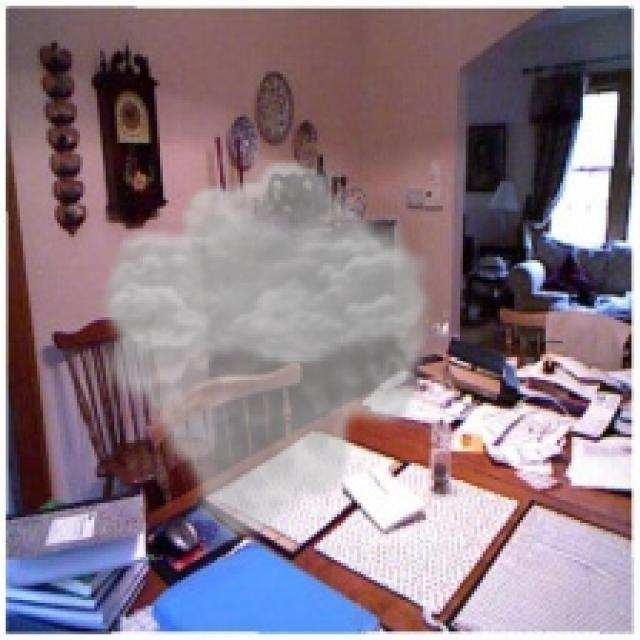smoke: (91, 154, 440, 546)
